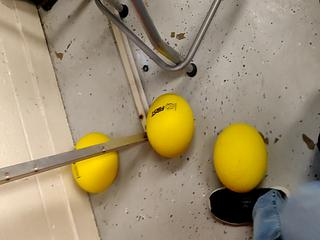power_cell: (65, 123, 123, 194), (212, 122, 269, 193), (142, 90, 199, 161)
